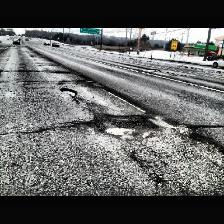pothole: (84, 112, 160, 136), (58, 87, 76, 97), (54, 71, 70, 73)
